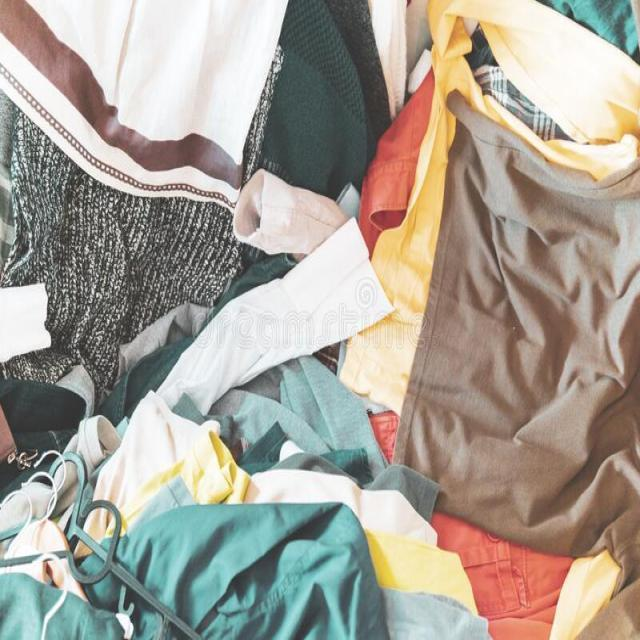clothes: (73, 106, 604, 499)
